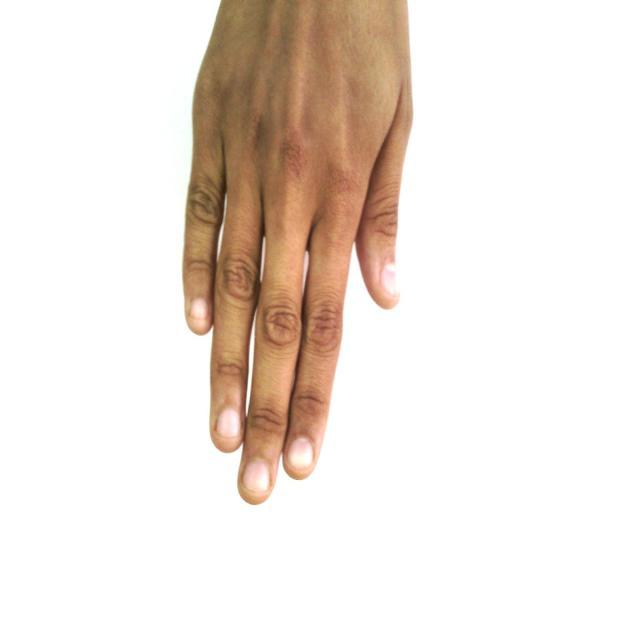Fingernail: (244, 461, 270, 492), (288, 438, 313, 469), (219, 410, 240, 437), (383, 264, 398, 295), (191, 299, 207, 324)
